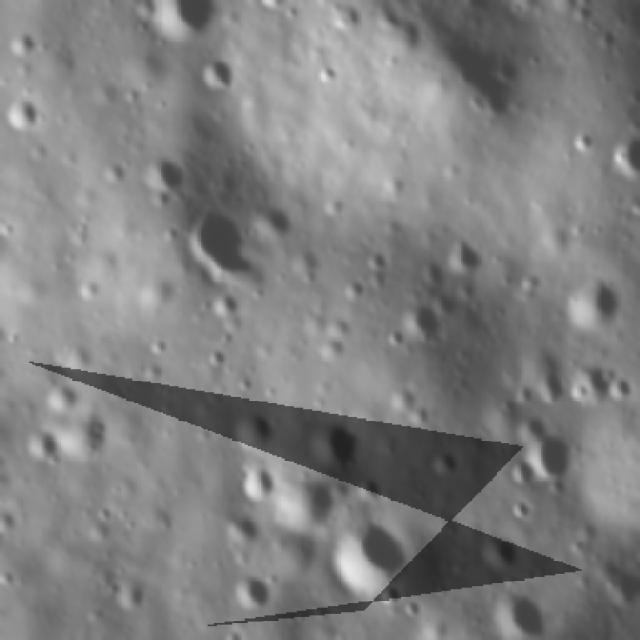crater: (334, 521, 417, 602), (181, 208, 261, 277), (283, 478, 349, 534), (558, 274, 624, 329), (492, 586, 552, 637), (573, 356, 633, 407), (150, 0, 221, 43), (138, 148, 198, 194), (530, 428, 582, 481), (312, 417, 361, 468), (196, 50, 242, 98), (397, 299, 449, 341), (231, 408, 277, 454), (24, 421, 65, 472), (480, 533, 526, 578), (446, 231, 492, 275), (5, 91, 43, 140), (256, 199, 296, 244), (230, 575, 272, 613), (239, 465, 278, 503), (5, 26, 43, 63), (224, 510, 265, 544), (46, 382, 83, 413), (506, 458, 540, 490), (210, 288, 241, 323), (513, 412, 549, 442), (315, 63, 347, 89), (572, 128, 599, 154), (380, 586, 405, 608)
